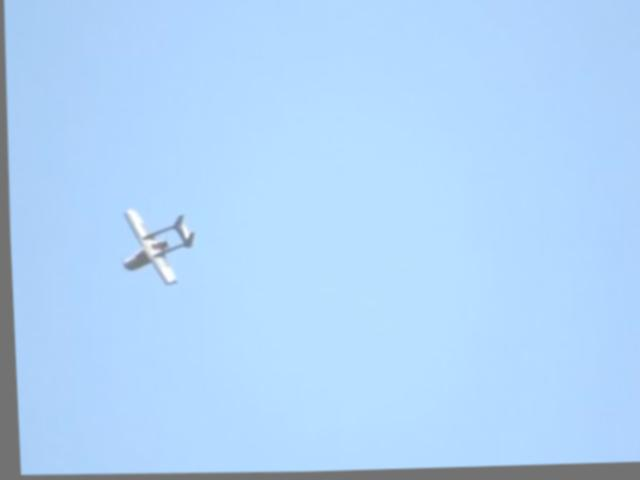uav: (110, 201, 197, 288)
